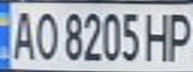0: (100, 8, 124, 62)
2: (81, 8, 103, 62)
5: (121, 8, 145, 62)
8: (60, 8, 84, 62)
A: (6, 7, 39, 62)
H: (142, 8, 175, 62)
O: (30, 7, 60, 62)
P: (163, 8, 193, 62)
